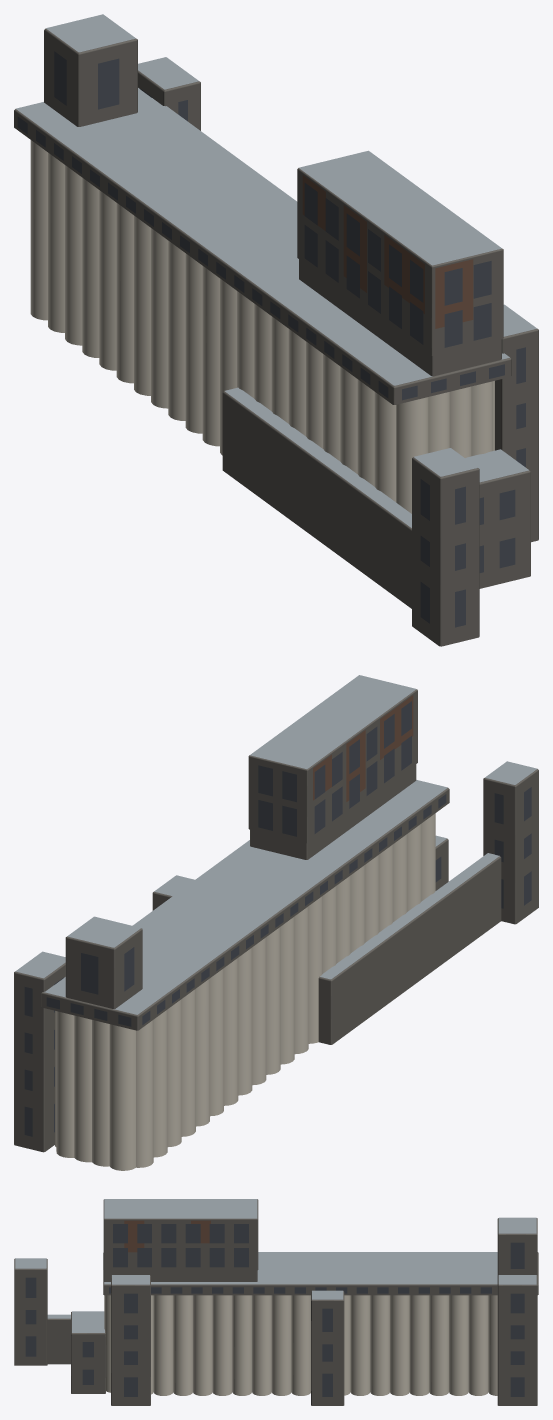
File: nyc-red-hook-grain-terminal.glb
3 renders of one model, top to bottom at view 1: azimuth 30°, elevation 25°; view 2: azimuth 150°, elevation 25°; view 3: azimuth 270°, elevation 25°, orthographic. The views are drawn at different scales.
Visible parts, largest first — view 1: Red Hook Grain Terminal; view 2: Red Hook Grain Terminal; view 3: Red Hook Grain Terminal.
Boxes of the visible parts, x1,y1,x2,y2 form: Red Hook Grain Terminal: (14, 14, 538, 646); Red Hook Grain Terminal: (14, 675, 538, 1170); Red Hook Grain Terminal: (14, 1199, 538, 1405).
Size of the model in its own units: 36.6 by 58 by 157.
